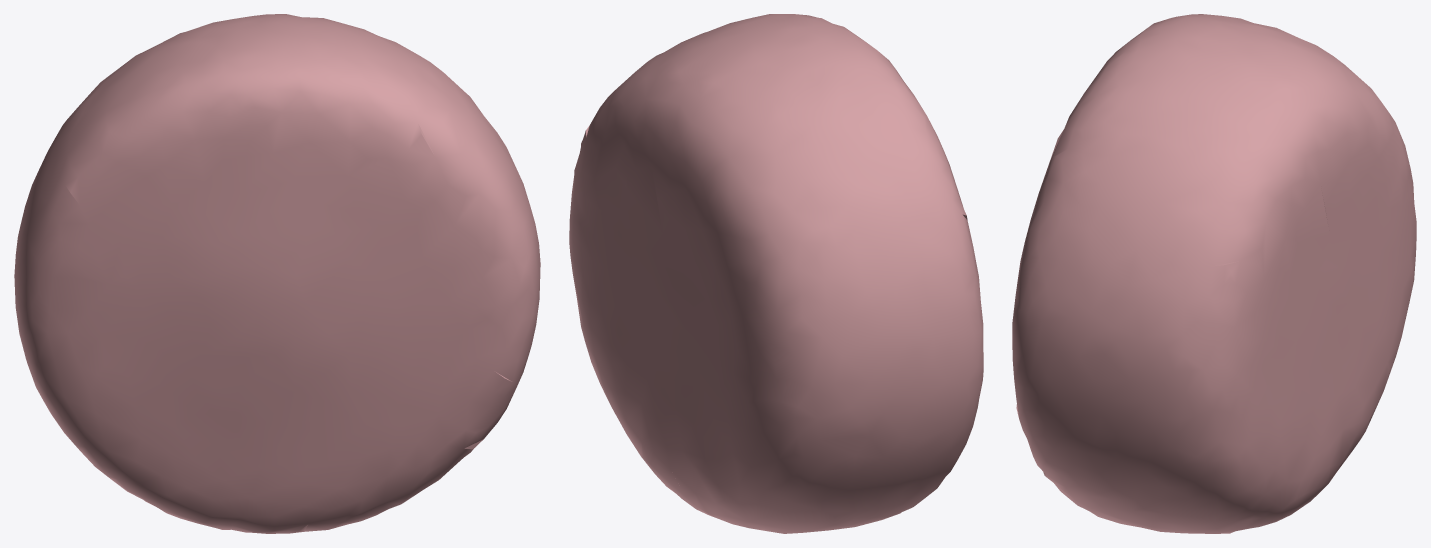
The model's file is fma58635_mm2188m.glb.
3 views of the same model, side by side, from view 1: azimuth 30°, elevation 25°; view 2: azimuth 150°, elevation 25°; view 3: azimuth 270°, elevation 25° (orthographic).
Visible parts, largest first — view 1: FMA58635_MM2188M; view 2: FMA58635_MM2188M; view 3: FMA58635_MM2188M.
Boxes of the visible parts, bbox=[...] form: FMA58635_MM2188M: bbox=[14, 14, 540, 533]; FMA58635_MM2188M: bbox=[569, 14, 983, 533]; FMA58635_MM2188M: bbox=[1012, 14, 1416, 533].
Bounding box in the file's own units: 0.00193 × 0.00198 × 0.00154.
